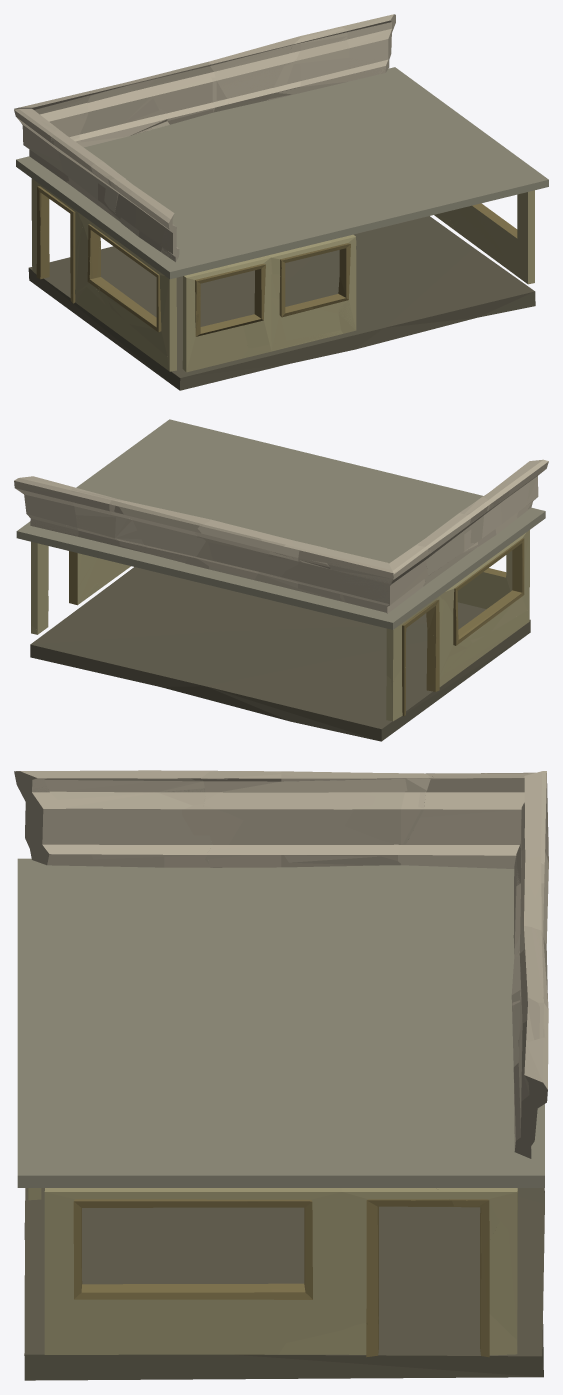
File: KPP.fbx
The picture shows the model from 3 angles, top to bottom: view 1: azimuth 30°, elevation 25°; view 2: azimuth 150°, elevation 25°; view 3: azimuth 270°, elevation 25°; orthographic projection. The views are drawn at different scales.
Visible parts, largest first — view 1: Roof, Foundation, Fence.001, PanelWithWindows, PanelWithDoor.001, Roof_cell.005, Fence.002, Roof_cell.001, PanelWithDoor, Fence.001_cell.002, Roof_cell.002, PanelWithWindows_cell.008 (+18 smaller); view 2: Foundation, Roof, Fence.001, PanelWithDoor.001, Fence.002, Roof_cell.003, PanelWithDoor, Roof_cell.001, Fence.001_cell.003, Roof_cell.005, Fence.001_cell.006, Fence.001_cell.002 (+18 smaller); view 3: Roof, Foundation, PanelWithDoor, Fence.002, Roof_cell.005, Fence.002_cell.002, Roof_cell.001, Fence.002_cell.006, PanelWithDoor_cell, Fence.002_cell.001, Fence.001, Roof_cell.007 (+14 smaller).
Boxes of the visible parts, x1,y1,x2,y2 form: Roof: (42, 67, 548, 279); Foundation: (28, 216, 535, 390); Fence.001: (14, 14, 393, 147); PanelWithWindows: (182, 237, 356, 371); PanelWithDoor.001: (31, 186, 176, 371); Roof_cell.005: (224, 67, 509, 151); Fence.002: (14, 109, 179, 262); Roof_cell.001: (383, 151, 548, 210); PanelWithDoor: (437, 190, 534, 284); Fence.001_cell.002: (79, 84, 169, 142); Roof_cell.002: (16, 122, 193, 200); PanelWithWindows_cell.008: (182, 314, 248, 372); Foundation: (30, 567, 530, 741); Roof: (16, 419, 545, 629); Fence.001: (14, 476, 393, 605); PanelWithDoor.001: (387, 530, 529, 716); Fence.002: (387, 459, 548, 613); Roof_cell.003: (381, 498, 528, 590); PanelWithDoor: (31, 541, 130, 634); Roof_cell.001: (132, 420, 329, 467); Fence.001_cell.003: (14, 478, 78, 536); Roof_cell.005: (16, 454, 190, 579); Fence.001_cell.006: (185, 521, 270, 579); Fence.001_cell.002: (254, 540, 345, 602); Roof: (17, 858, 544, 1187); Foundation: (24, 1188, 544, 1380); PanelWithDoor: (44, 1188, 517, 1357); Fence.002: (20, 770, 534, 868); Roof_cell.005: (151, 1039, 544, 1187); Fence.002_cell.002: (201, 770, 430, 867); Roof_cell.001: (17, 1042, 170, 1187); Fence.002_cell.006: (44, 770, 211, 863); PanelWithDoor_cell: (245, 1188, 453, 1324); Fence.002_cell.001: (406, 772, 535, 848); Fence.001: (511, 771, 548, 1150); Roof_cell.007: (17, 938, 88, 1045).
Size of the model in its own units: 1121 by 502 by 791.
